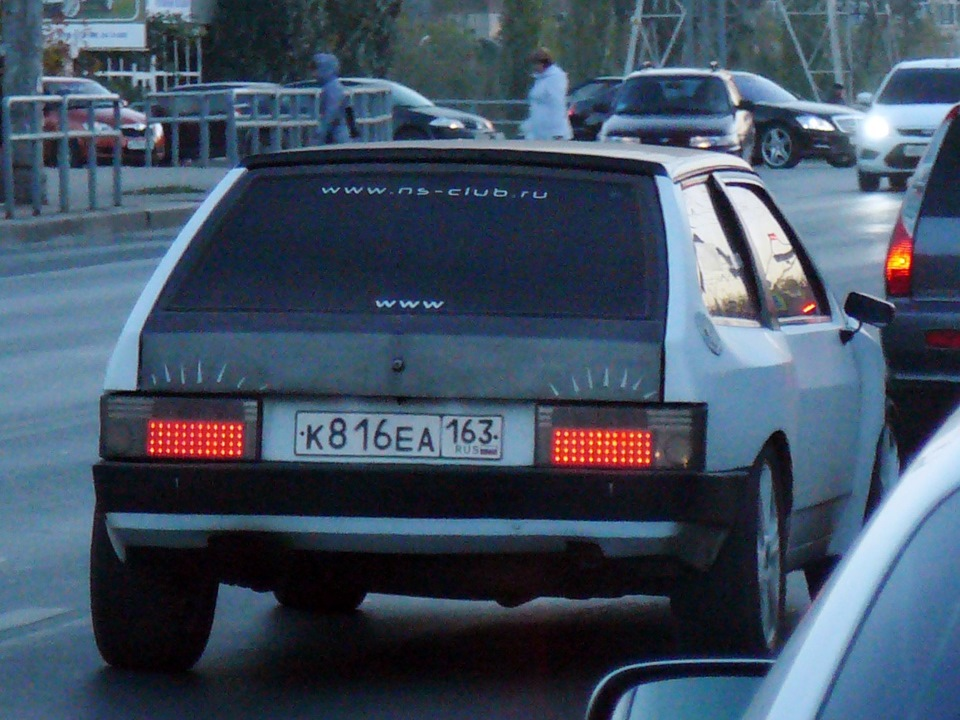number_plate: (288, 407, 510, 458)
